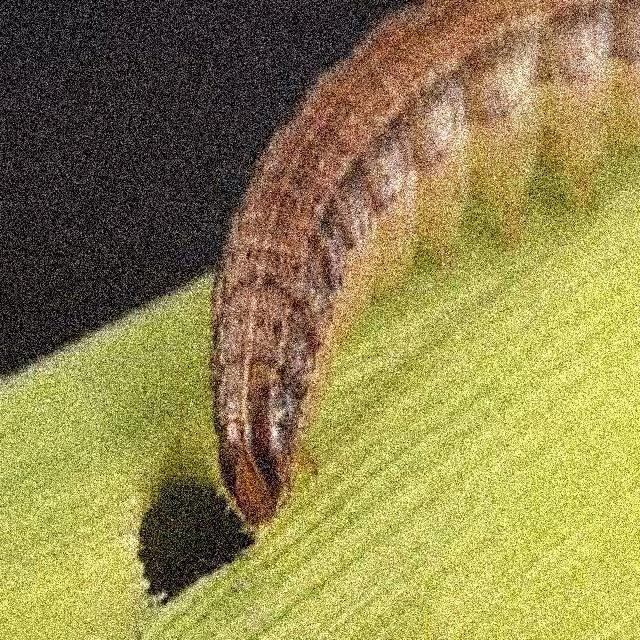gusano_cogollero: (208, 0, 640, 527)
